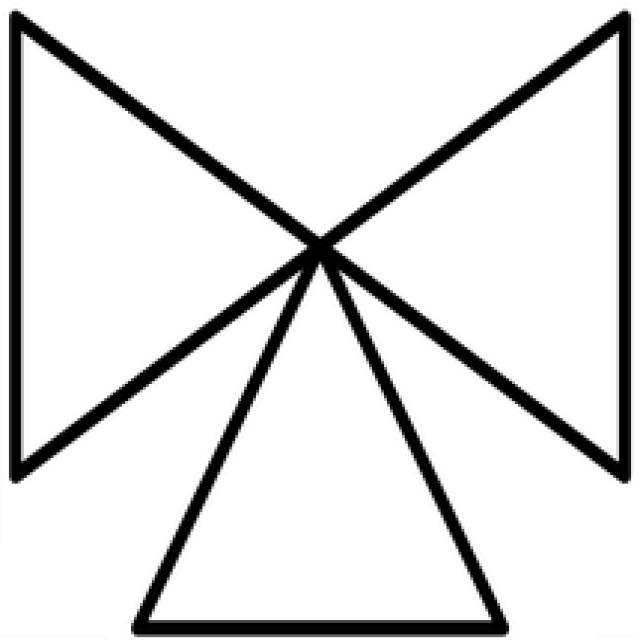3-way Valve: (12, 11, 628, 631)
